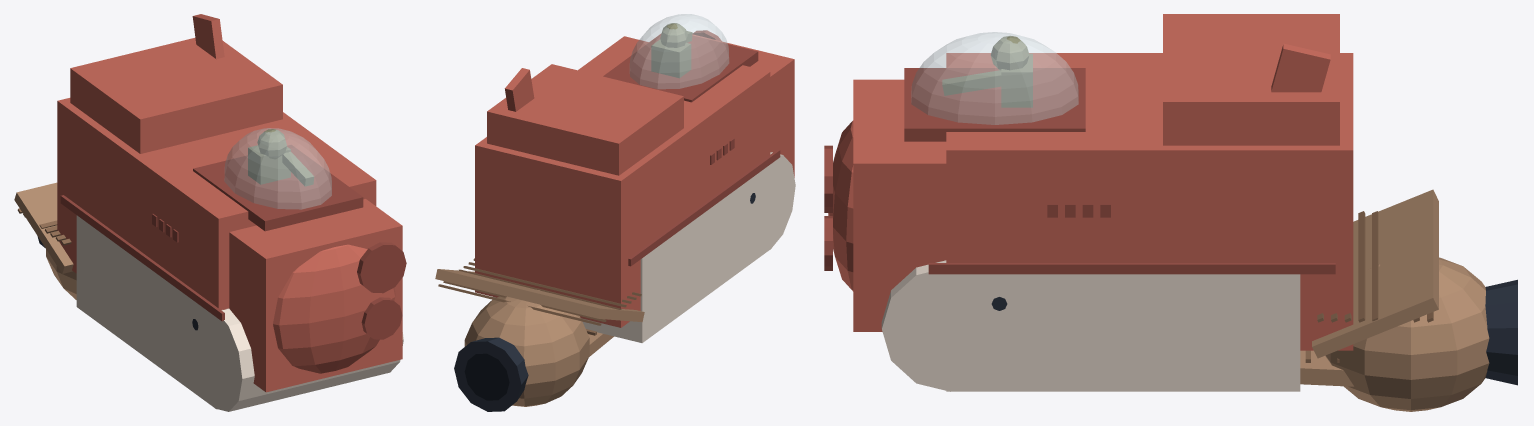
Rendered from gateHaulerCraft_hauler-71-4.glb.
3 views of the same model, side by side, from view 1: azimuth 30°, elevation 25°; view 2: azimuth 150°, elevation 25°; view 3: azimuth 270°, elevation 25° (orthographic). The views are drawn at different scales.
Parts seen in each view (by area): view 1: n1, n7, n3, n9, n5, n15, n16, n11, n32, n22, n13, n24 (+5 smaller); view 2: n1, n7, n9, n27, n15, n16, n3, n32, n29, n11, n31, n13 (+7 smaller); view 3: n1, n9, n7, n3, n27, n11, n15, n32, n16, n14, n29, n5 (+7 smaller).
Part boxes in pixels (bbox=[...]): n1: bbox=[57, 98, 376, 310]; n7: bbox=[70, 38, 282, 153]; n3: bbox=[229, 199, 402, 392]; n9: bbox=[76, 215, 229, 409]; n5: bbox=[273, 244, 395, 373]; n15: bbox=[224, 128, 331, 209]; n16: bbox=[193, 145, 363, 231]; n11: bbox=[192, 308, 403, 411]; n32: bbox=[14, 182, 73, 273]; n22: bbox=[357, 242, 406, 293]; n13: bbox=[60, 195, 224, 321]; n24: bbox=[361, 297, 402, 339]; n1: bbox=[475, 36, 770, 327]; n7: bbox=[487, 64, 683, 175]; n9: bbox=[493, 163, 771, 342]; n27: bbox=[464, 289, 589, 406]; n15: bbox=[629, 14, 729, 89]; n16: bbox=[603, 34, 758, 102]; n3: bbox=[654, 34, 794, 177]; n32: bbox=[435, 269, 644, 322]; n29: bbox=[454, 337, 528, 411]; n11: bbox=[745, 152, 795, 252]; n31: bbox=[464, 353, 509, 400]; n13: bbox=[628, 149, 780, 266]; n1: bbox=[946, 53, 1353, 350]; n9: bbox=[946, 274, 1300, 391]; n7: bbox=[1163, 14, 1339, 145]; n3: bbox=[853, 79, 946, 331]; n27: bbox=[1325, 257, 1489, 411]; n11: bbox=[881, 260, 1019, 391]; n15: bbox=[911, 32, 1078, 124]; n32: bbox=[1312, 189, 1438, 358]; n16: bbox=[904, 68, 1085, 141]; n14: bbox=[928, 263, 1335, 274]; n29: bbox=[1485, 279, 1517, 385]; n5: bbox=[828, 120, 853, 291].
Bounding box in the file's own units: 2.9 × 4.86 × 7.86.
